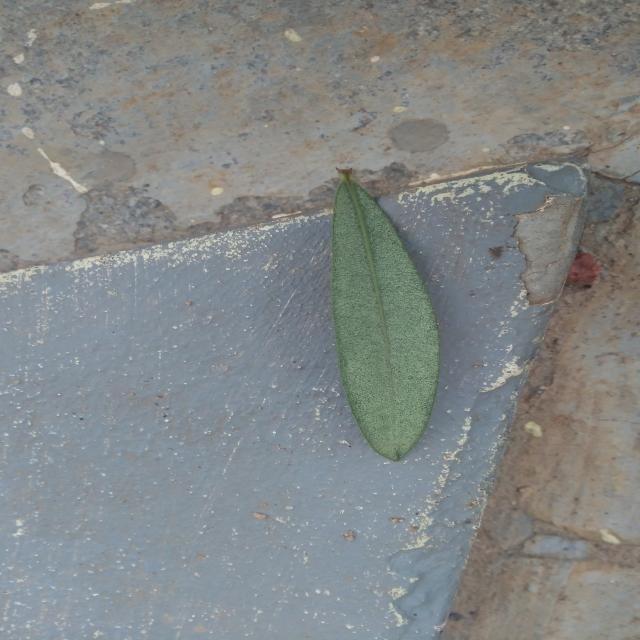ganigale: (331, 169, 440, 461)
